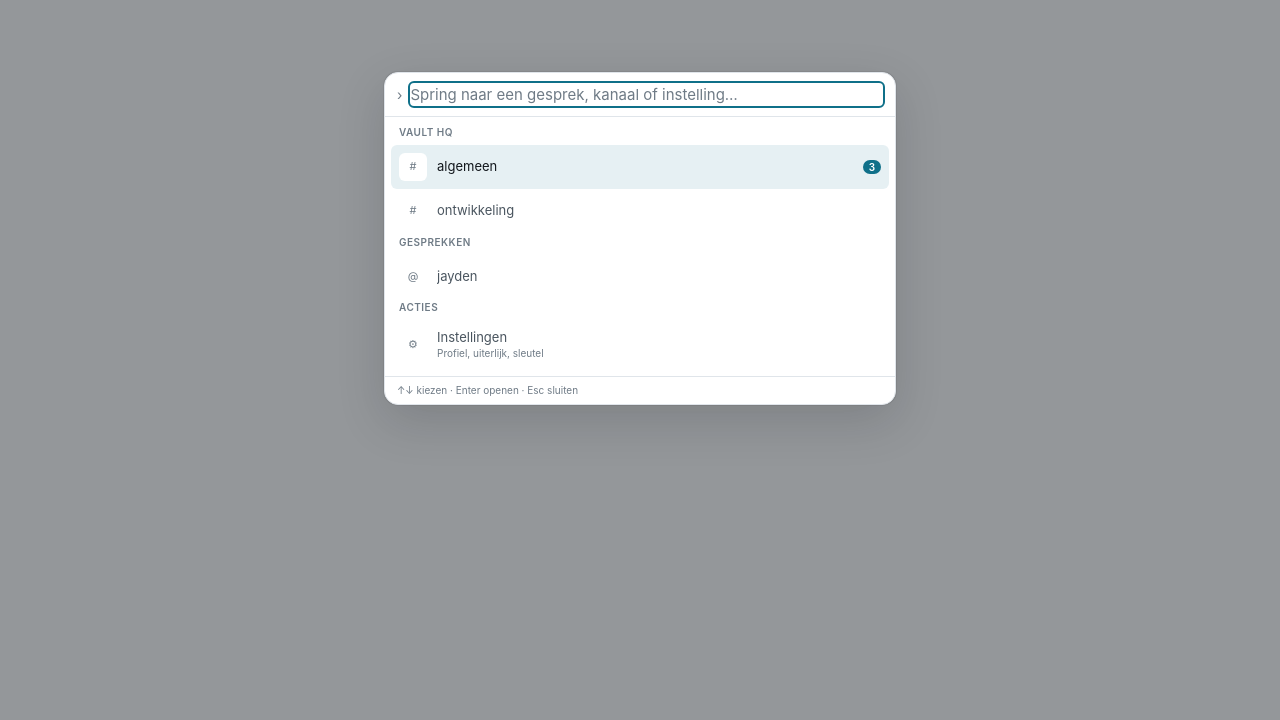
Test case: CommandPalette › zegt het als er niets gevonden is
The image size is (1280, 720).
Type "zzzzzz" into the field named "Zoek".
click(647, 95); type("zzzzzz")  # box [410, 83, 883, 106]
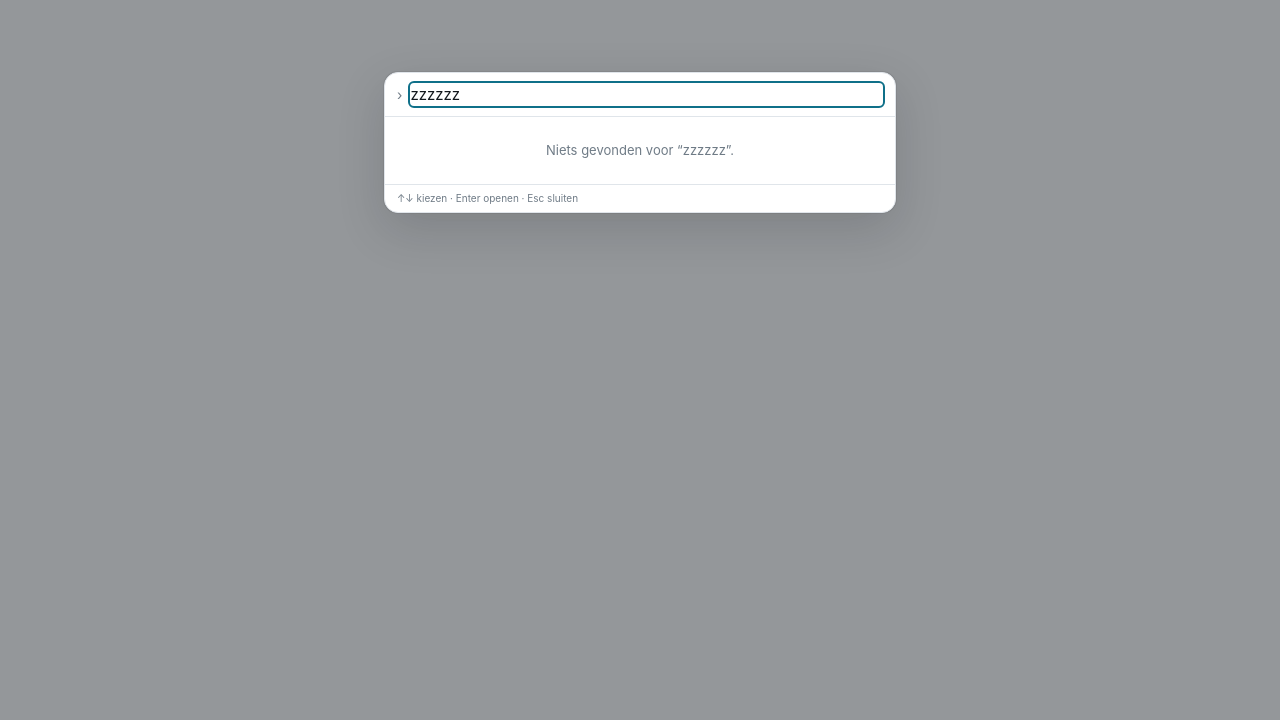
Expected: no options are shown
Expected: the text "Niets gevonden voor “zzzzzz”." is shown, [546, 142, 734, 158]
